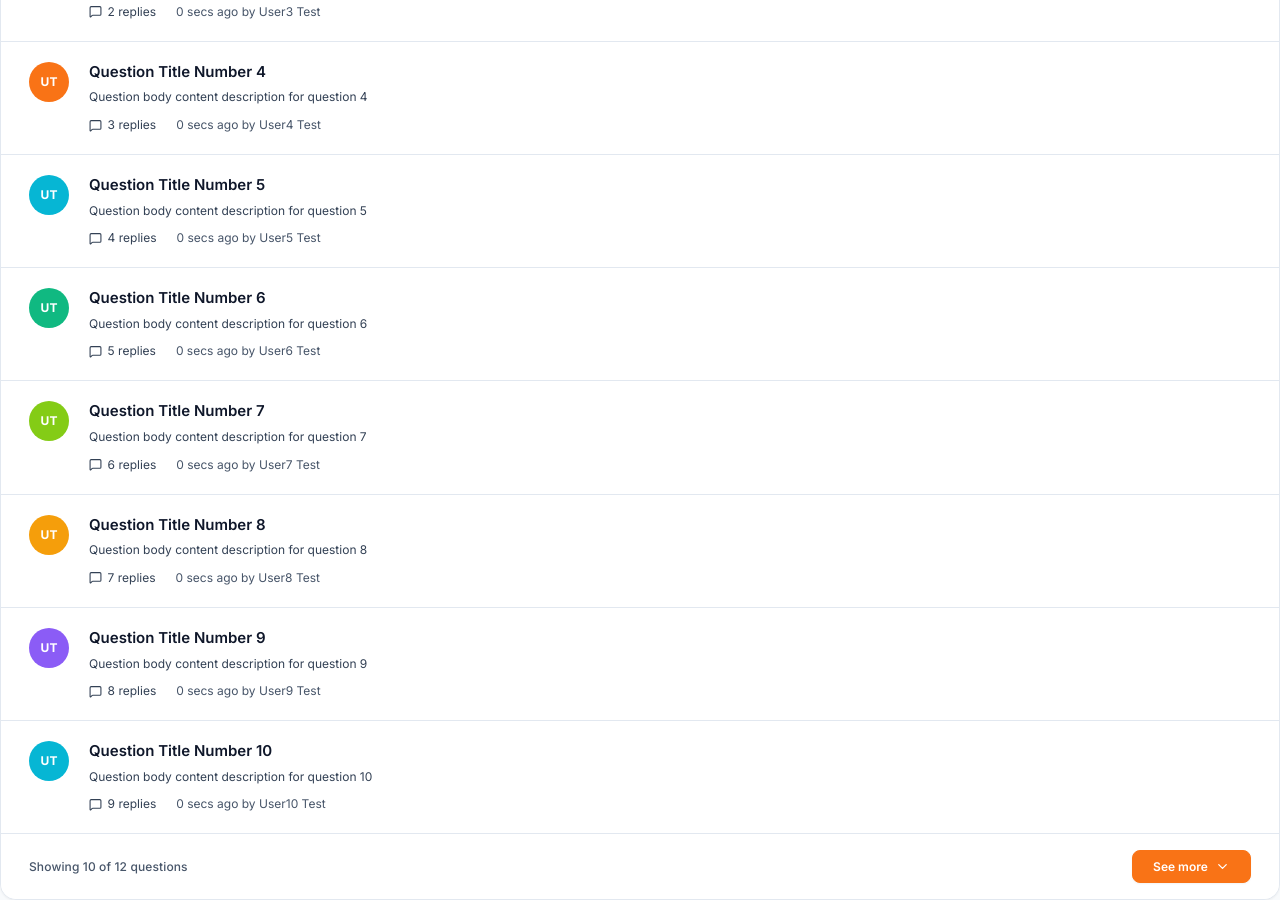
Test: Dashboard Component (Task T-14) › renders "See more" when listed questions are above 10 and expands on click
(page scrolled)
Expected: the heading "Question Title Number 10" is shown, [89,741,272,761]
Expected: the text "Question Title Number 11" is not shown
// Click "See more"
Click the button "See more" at (1192, 867), box [1132,850,1251,883]
(page scrolled)
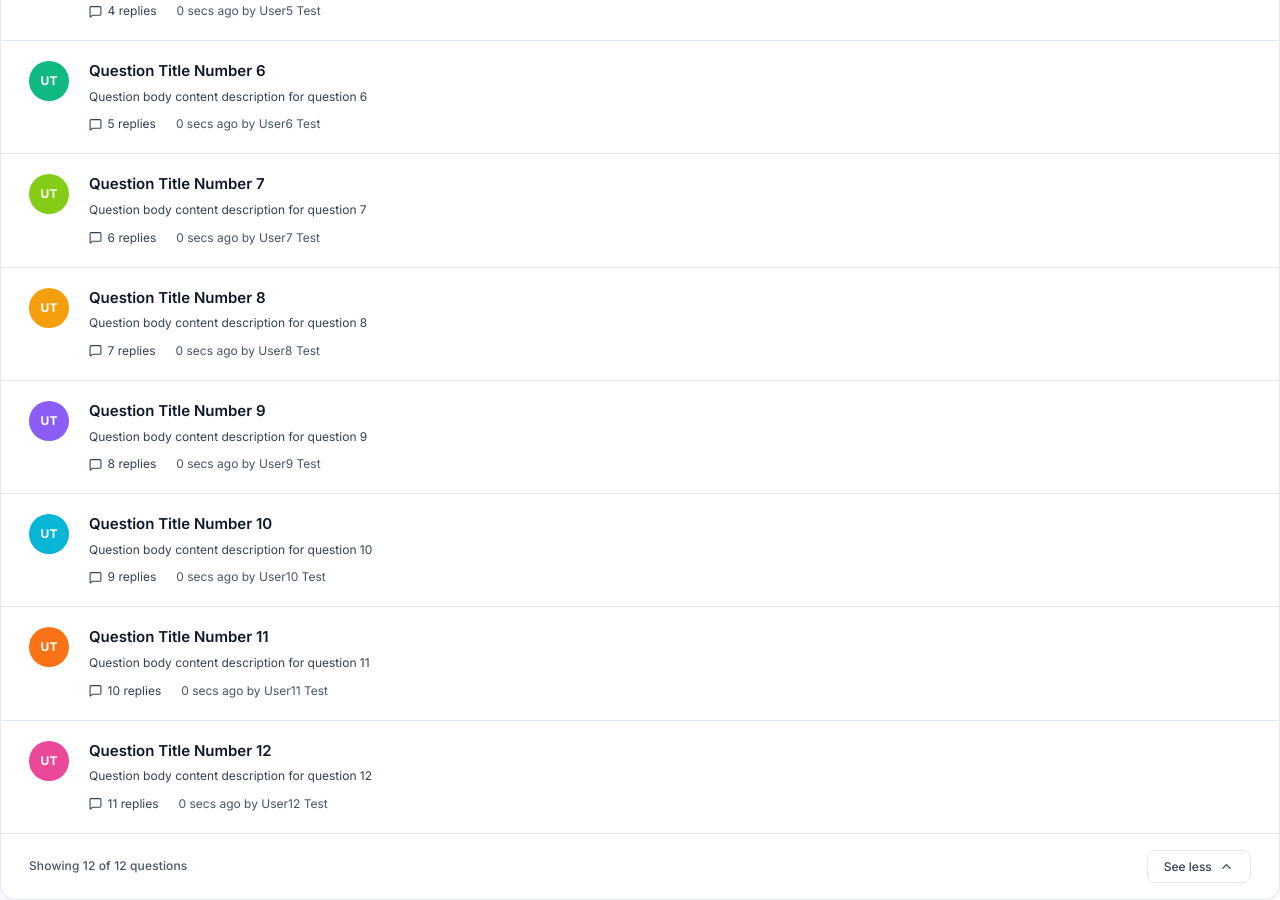
Result: the heading "Question Title Number 11" is shown at [89,627,269,648]
Result: the heading "Question Title Number 12" is shown at [89,741,272,761]
Result: the text "Showing 12 of 12 questions" is shown at [29,857,187,875]
// Click "See less"
Click the button "See less" at (1199, 866), box [1147,850,1251,883]
(page scrolled)
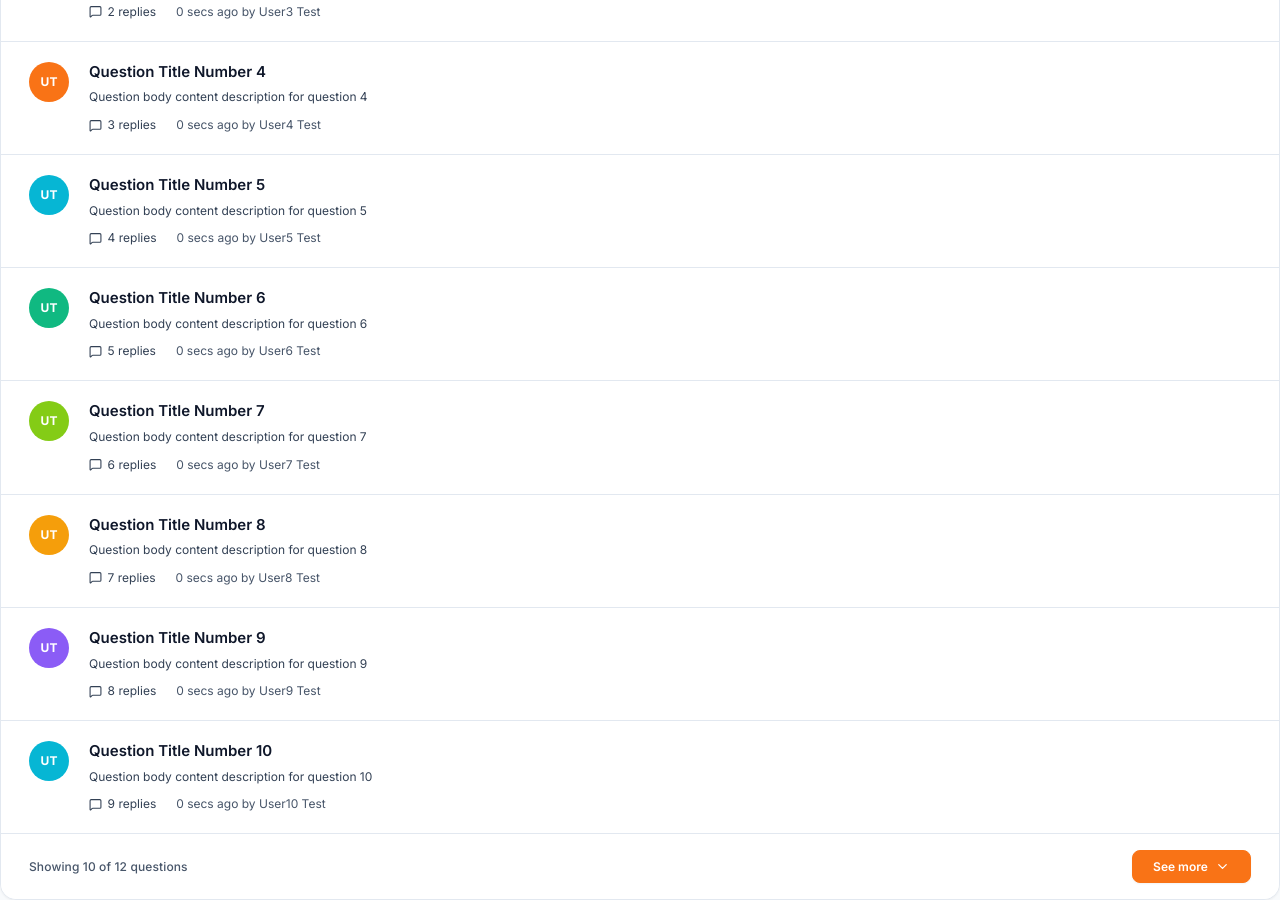
Expected: the heading "Question Title Number 10" is shown, [89,741,272,761]
Result: the button "Question Title Number 11" is gone
Result: the button "See more" is shown at [1132,850,1251,883]
